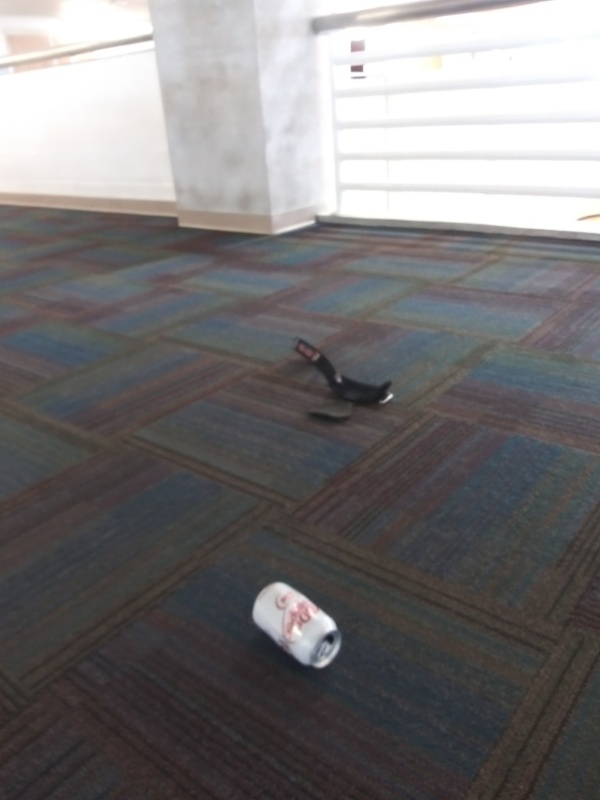can: (249, 577, 344, 674)
